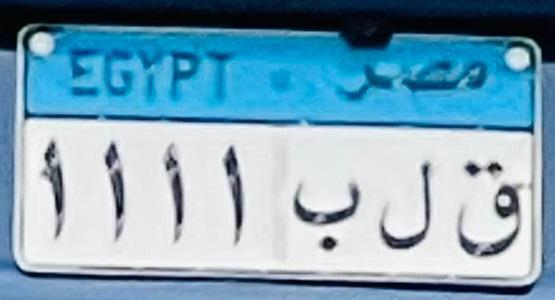1: (15, 116, 68, 266), (206, 135, 257, 256), (96, 106, 134, 239), (151, 131, 188, 238)
ب: (298, 160, 364, 251)
ق: (438, 152, 527, 272)
ل: (366, 135, 444, 256)
